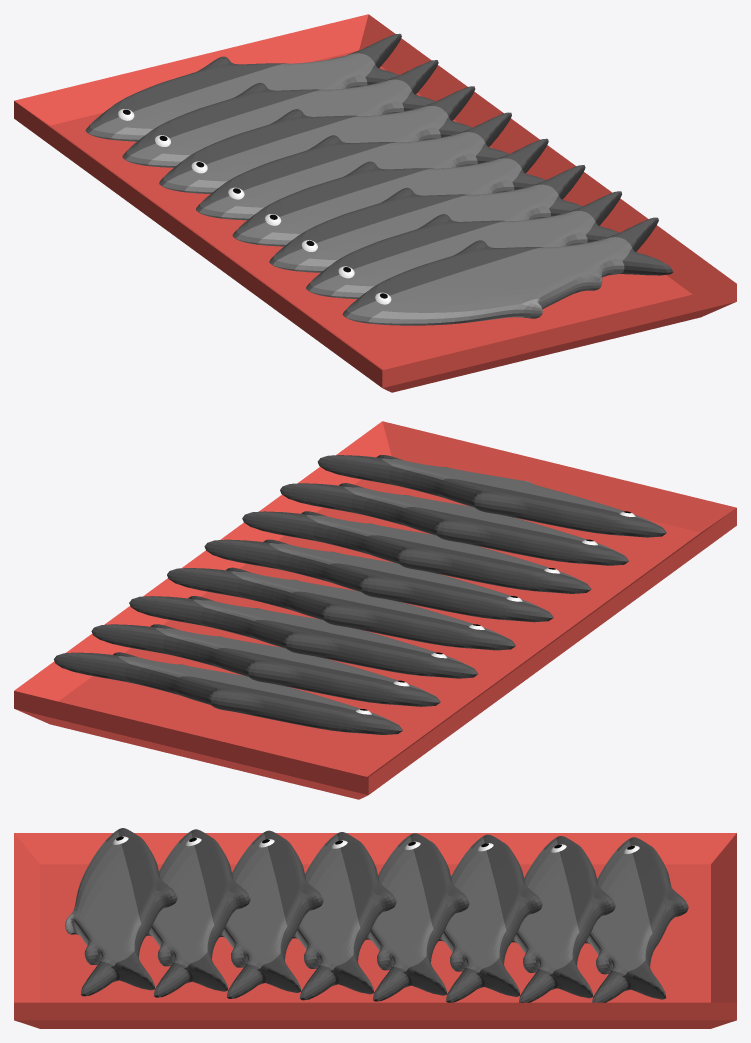
The model's file is Bangus(full).fbx.
The picture shows the model from 3 angles, top to bottom: view 1: azimuth 30°, elevation 25°; view 2: azimuth 150°, elevation 25°; view 3: azimuth 270°, elevation 25°; orthographic projection.
Visible parts, largest first — view 1: bangus.002, Cube.058; view 2: bangus.002, Cube.058; view 3: bangus.002, Cube.058.
Part boxes in pixels (x1,y1,x2,y2): bangus.002: [85, 33, 673, 325]; Cube.058: [14, 14, 736, 392]; bangus.002: [54, 455, 666, 734]; Cube.058: [14, 421, 736, 799]; bangus.002: [65, 828, 688, 1002]; Cube.058: [14, 833, 736, 1028].
Bounding box in the file's own units: 0.9093 × 0.1625 × 1.64.
